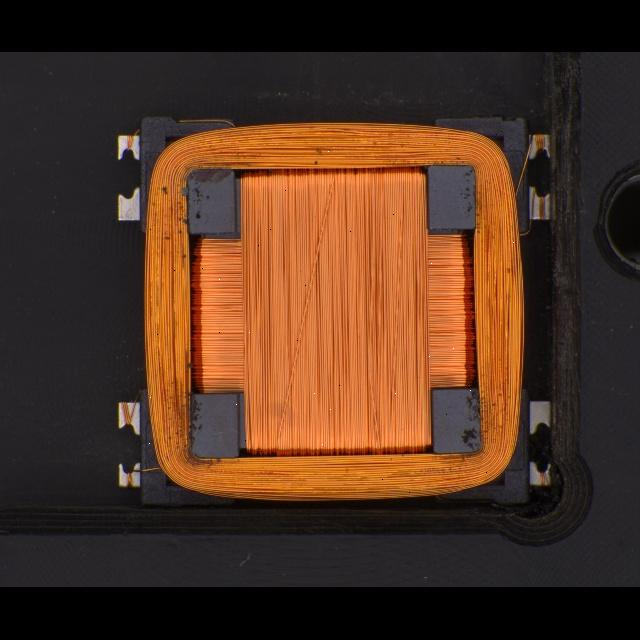Winding_Z: (137, 117, 528, 503)
